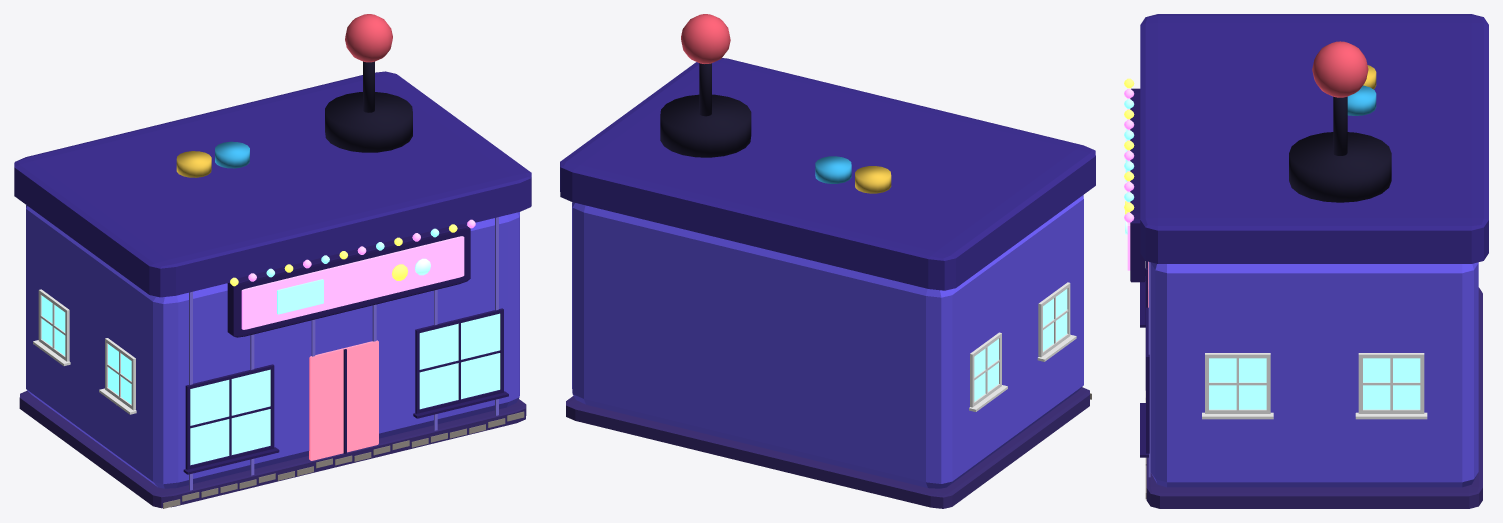
The model's file is herna.glb.
3 views of the same model, side by side, from view 1: azimuth 30°, elevation 25°; view 2: azimuth 150°, elevation 25°; view 3: azimuth 270°, elevation 25° (orthographic). The views are drawn at different scales.
Parts seen in each view (by area): view 1: herna; view 2: herna; view 3: herna.
Boxes of the visible parts, x1,y1,x2,y2 form: herna: [14, 14, 531, 508]; herna: [560, 14, 1095, 508]; herna: [1124, 14, 1488, 508].
Size of the model in its own units: 10.02 by 9.05 by 7.12.
3 materials, 3 textured.
